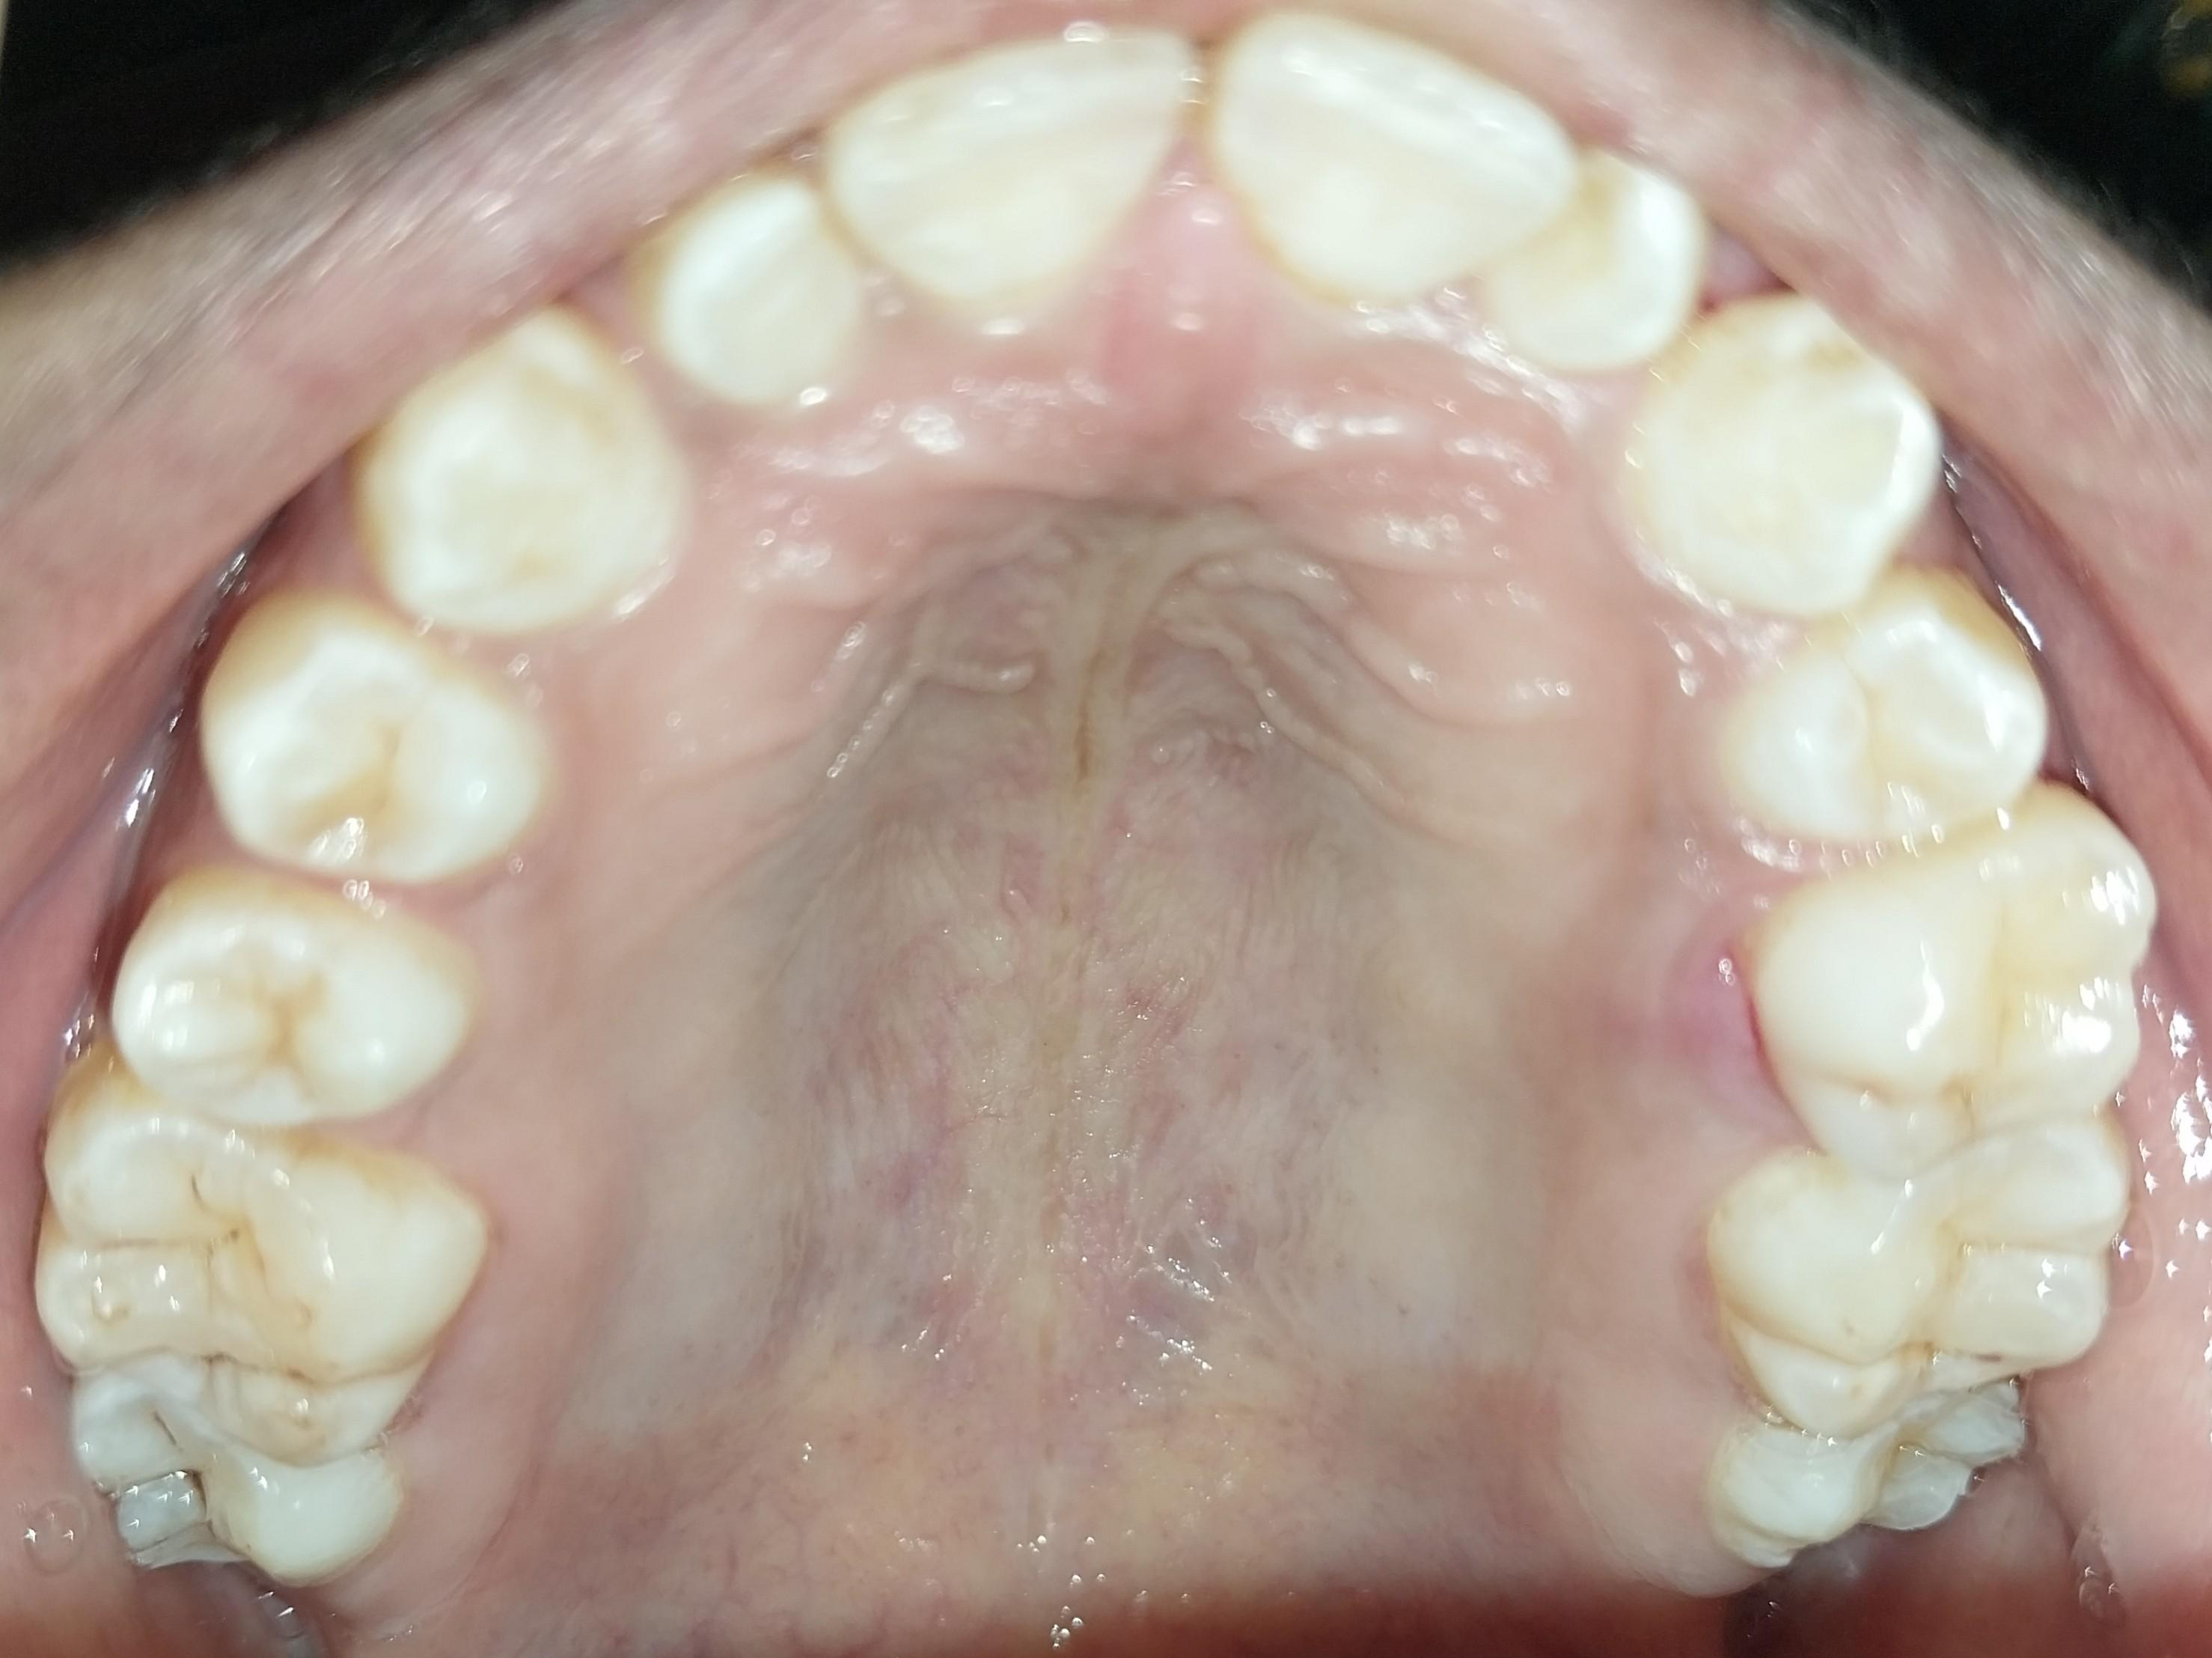D: (66, 1389, 403, 1585)
